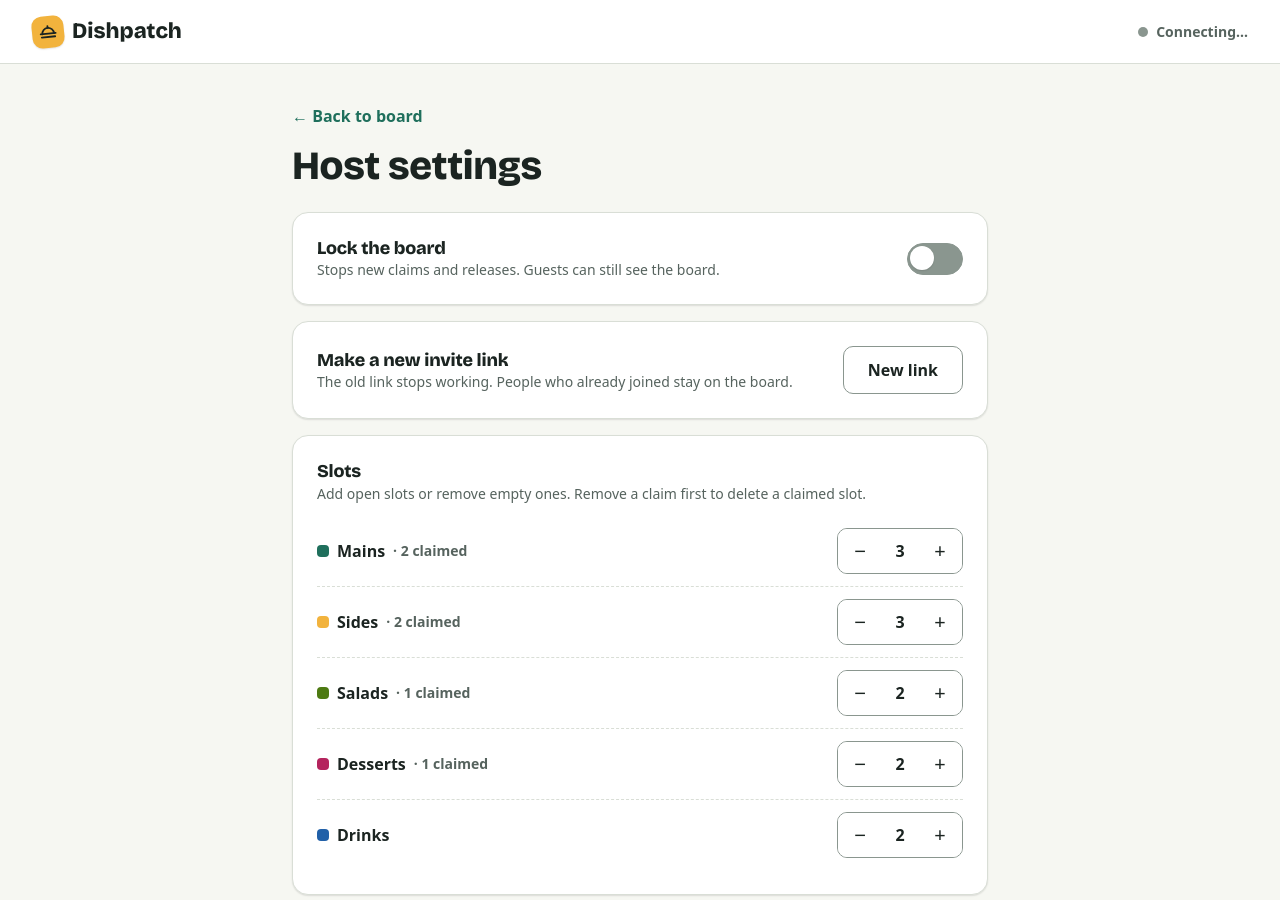
Test case: HostScreen › locking succeeds with a toast
This screenshot has width=1280, height=900.
Step 1. Click the switch named "Lock the board" → (935, 259), box [907, 243, 963, 275]
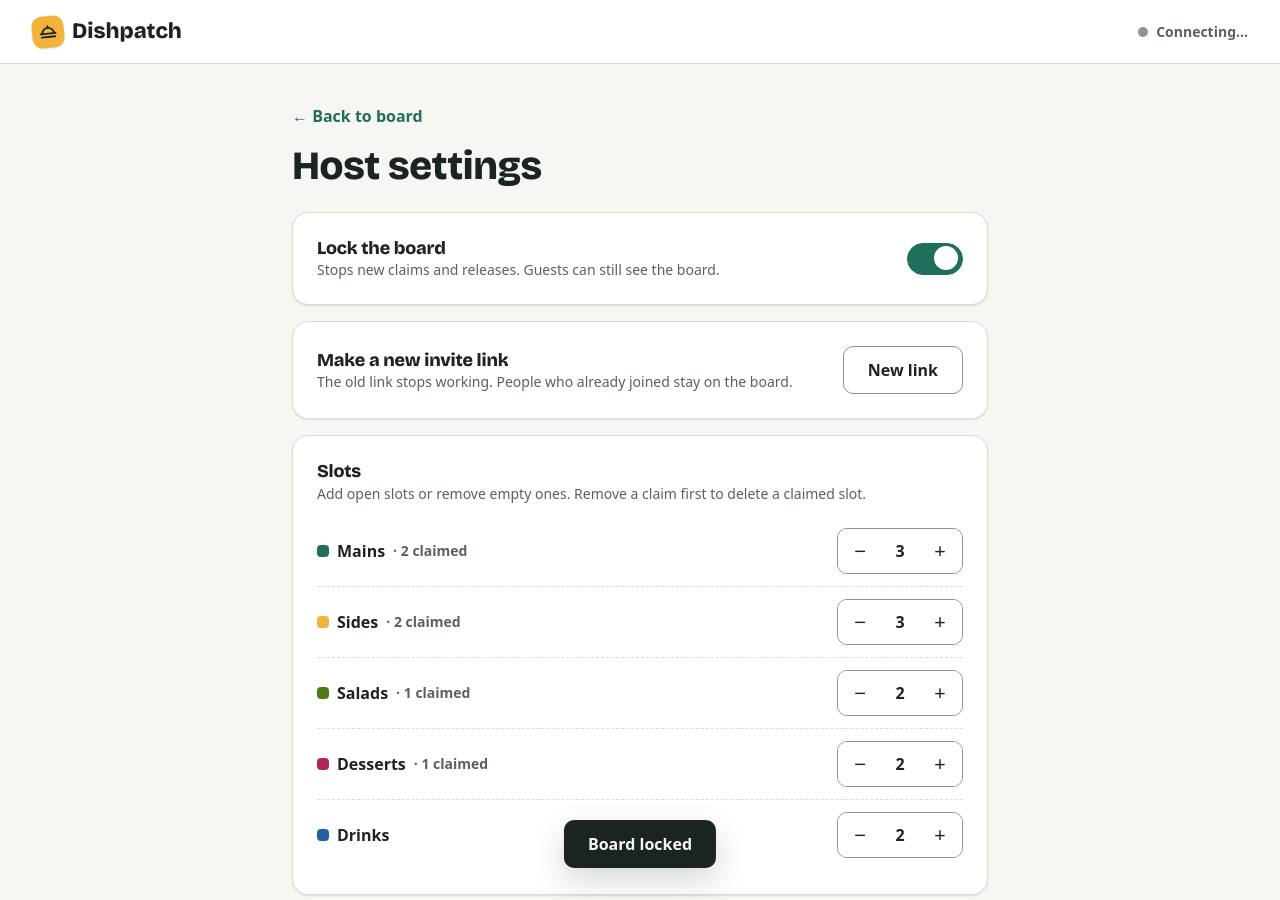
Result: the text "Board locked" is shown at [564, 820, 716, 868]
